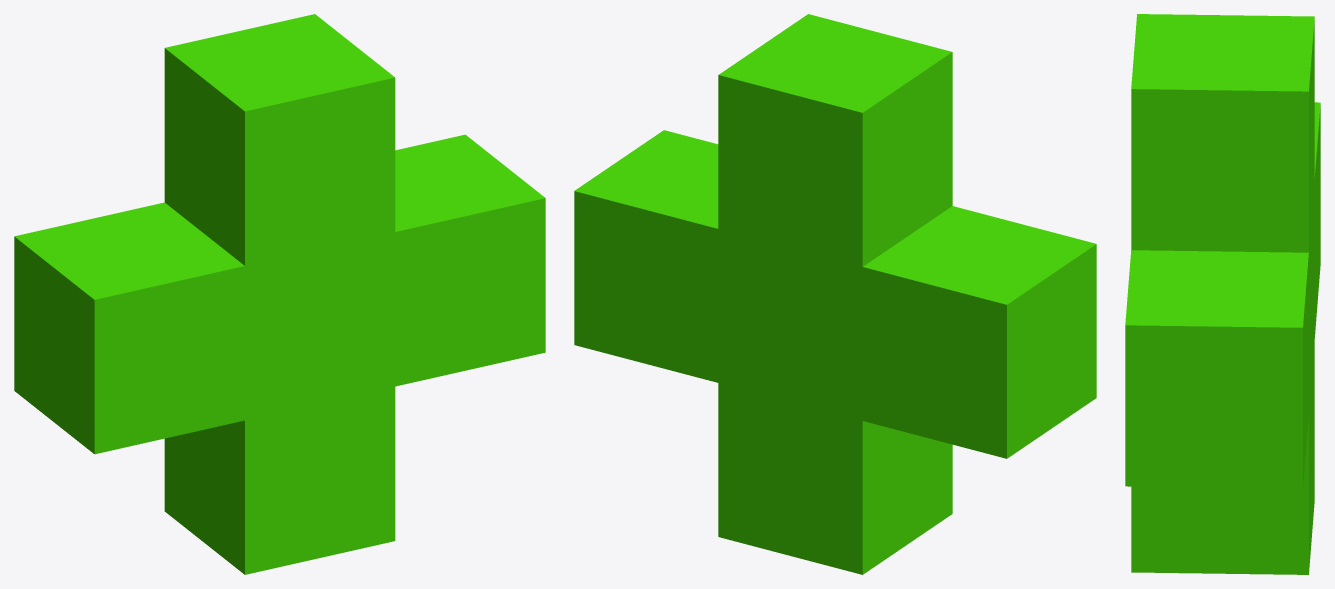
Rendered from heal2.fbx.
The picture shows the model from 3 angles, left to right: view 1: azimuth 30°, elevation 25°; view 2: azimuth 150°, elevation 25°; view 3: azimuth 270°, elevation 25°; orthographic projection. The views are drawn at different scales.
Visible parts, largest first — view 1: pCube1; view 2: pCube1; view 3: pCube1.
Boxes of the visible parts, box(x1,y1,x2,y2) form: pCube1: box(14, 14, 545, 574); pCube1: box(574, 14, 1096, 574); pCube1: box(1125, 14, 1320, 574).
Bounding box in the file's own units: 3.03 × 3 × 1.1.
